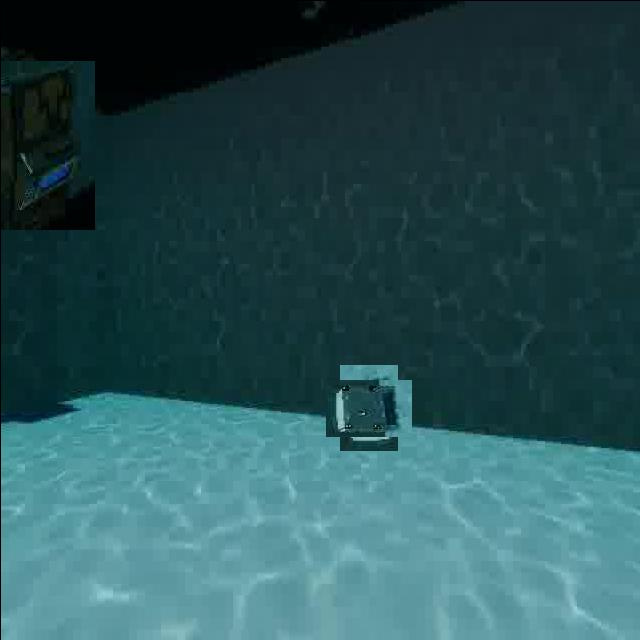Control Panel: (0, 60, 94, 229)
Docking Station: (332, 372, 404, 444)
